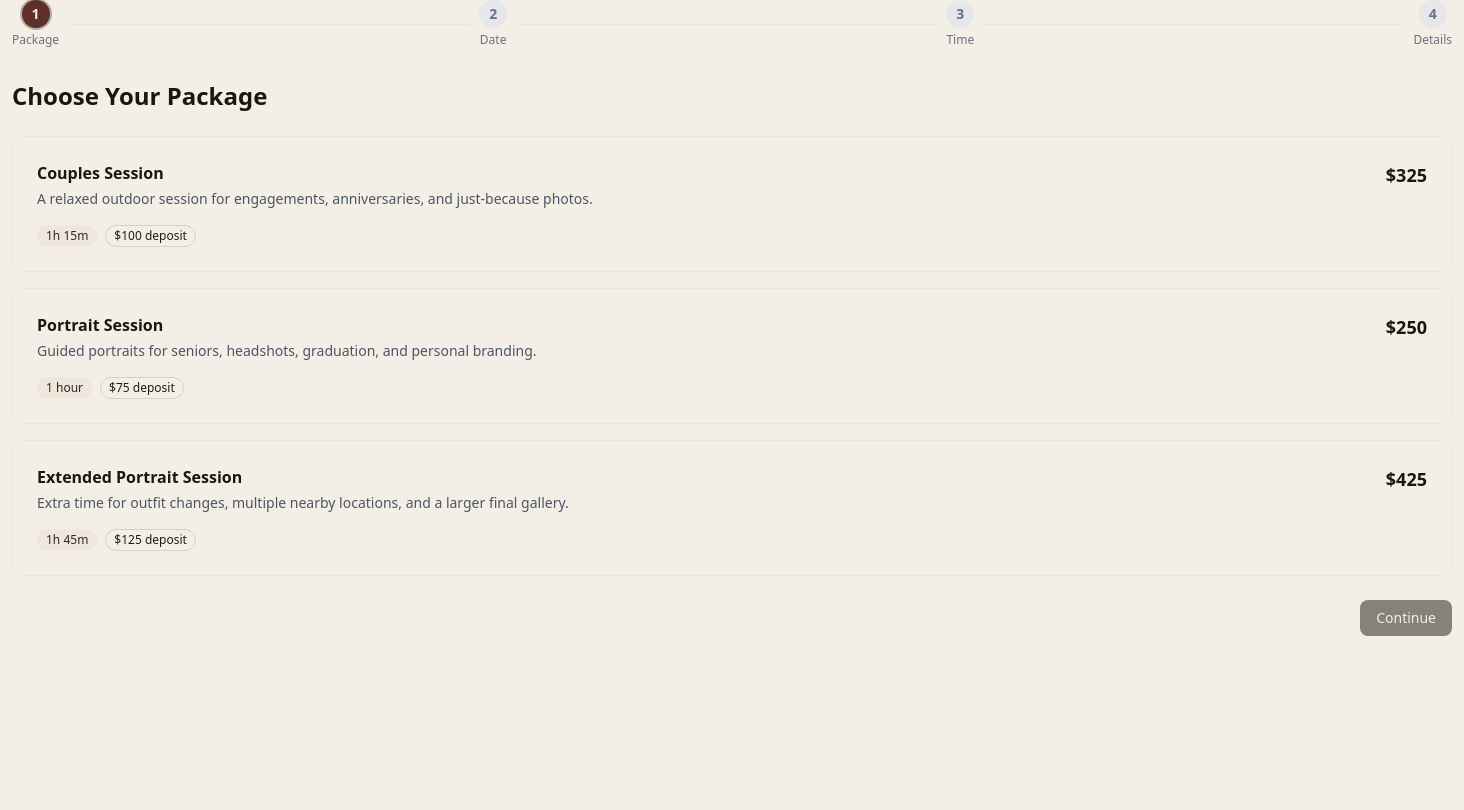
it: PhotographyBookingForm — PHOTO-03: multi-step booking flow › advances from step 1 to step 2 (date) when Continue is clicked with a package selected
What coordinates should you click on to do the following:
click the heading "Portrait Session"
I would click on:
 (100, 325)
Its box is [37,314,163,336].
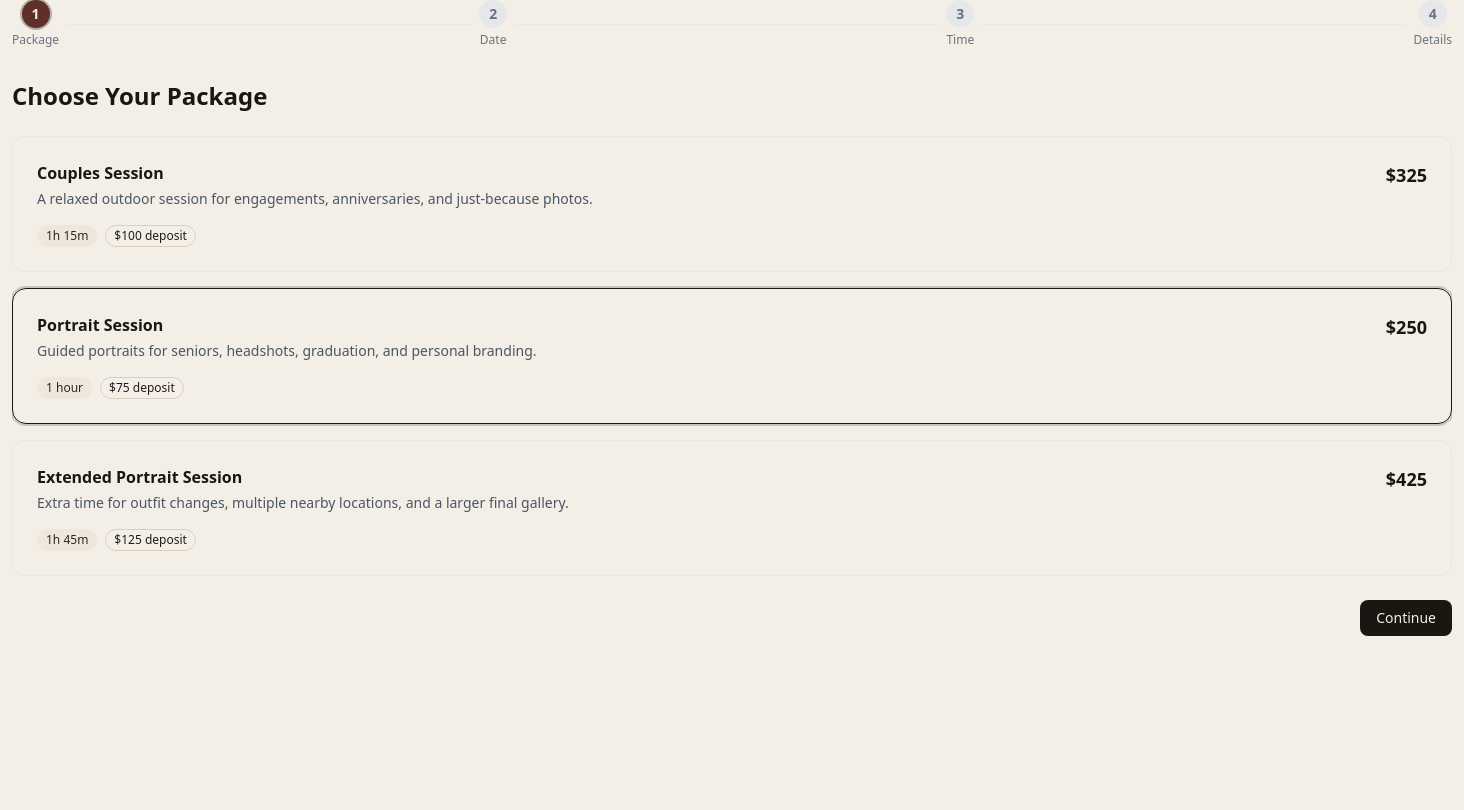
What coordinates should you click on to do the following:
click the button "Continue"
I would click on:
 (1406, 618)
Its box is [1360,600,1452,636].
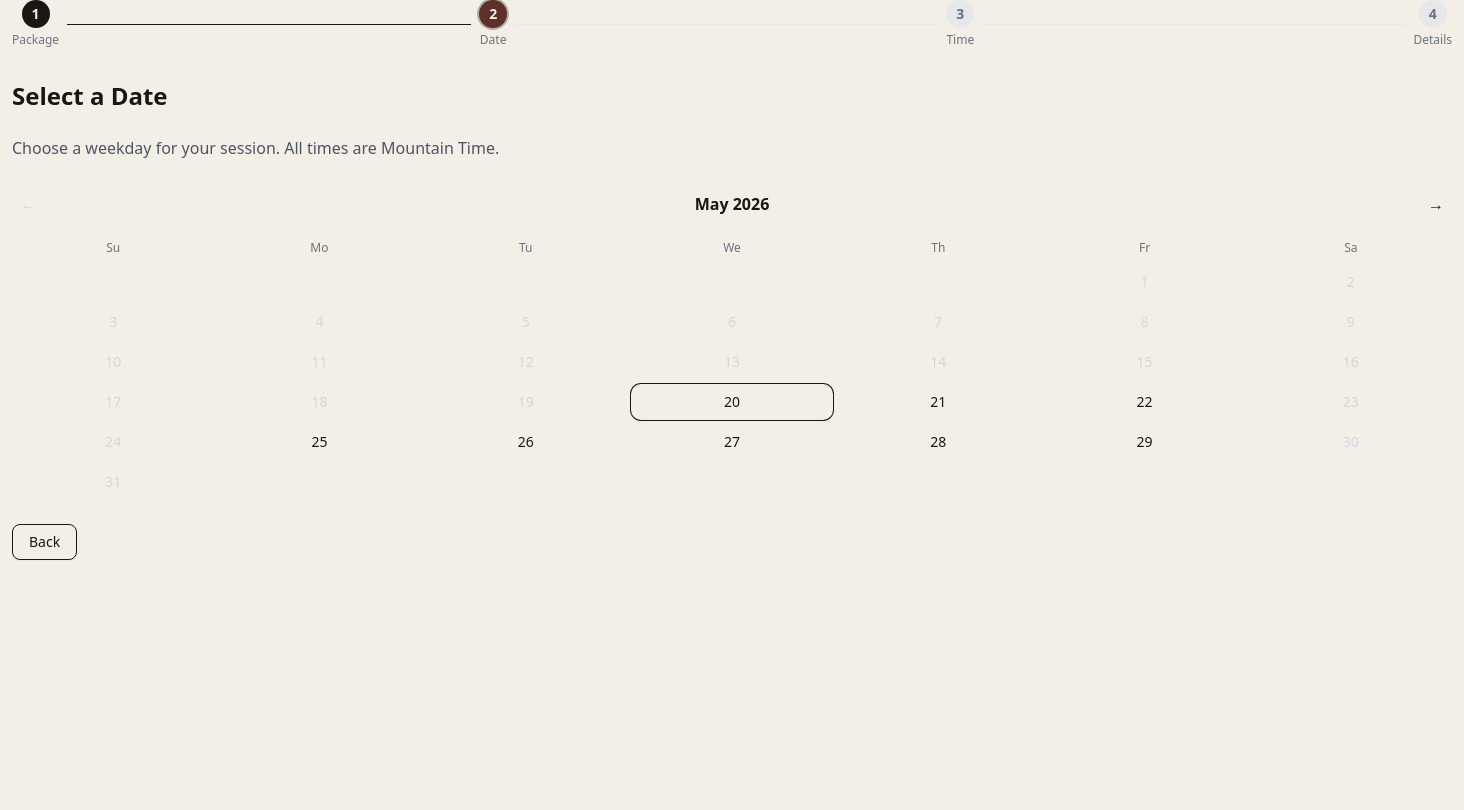
Result: the heading "Select a Date" is shown at [12,79,168,112]
